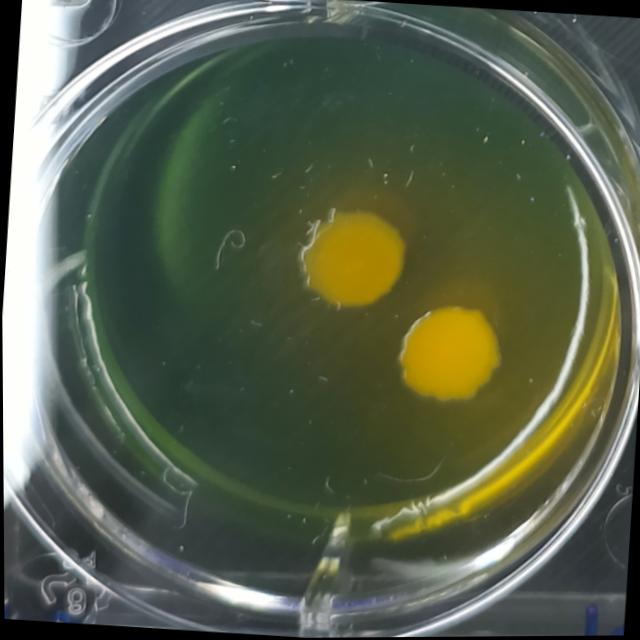vibrio: (283, 199, 413, 323), (387, 296, 512, 417)
